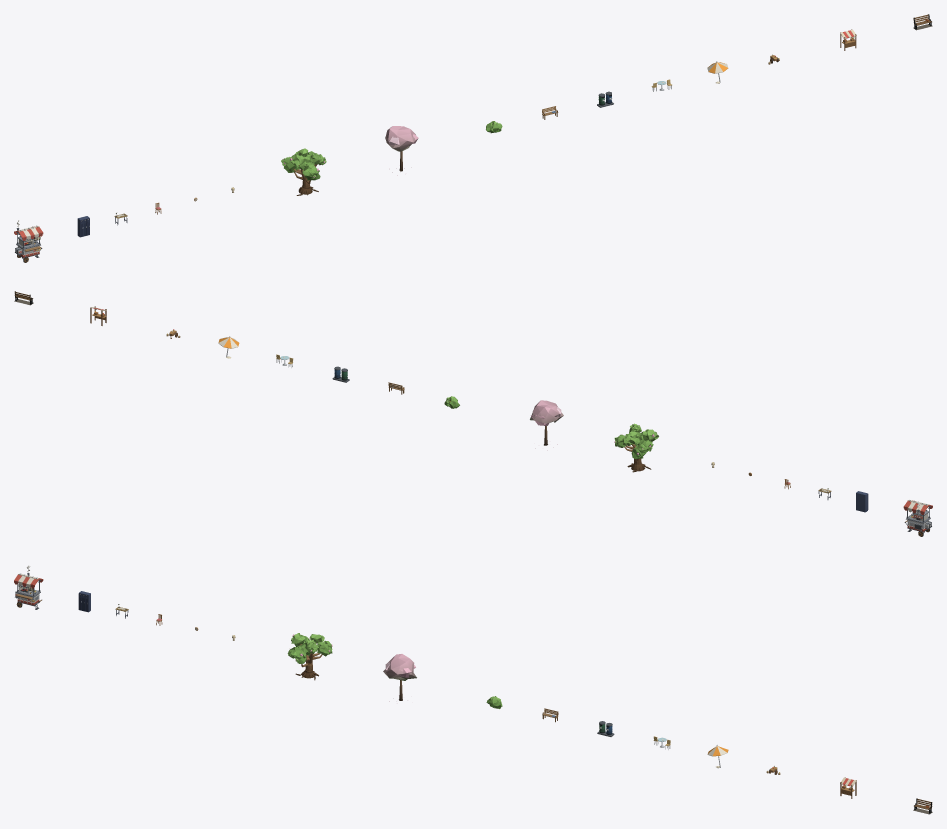
Rendered from catalog_props.glb.
3 renders of one model, top to bottom at view 1: azimuth 30°, elevation 25°; view 2: azimuth 150°, elevation 25°; view 3: azimuth 330°, elevation 25°, orthographic.
Visible parts, largest first — view 1: park_tree_01, food_cart_01, flowering_tree; view 2: park_tree_01, food_cart_01, flowering_tree; view 3: park_tree_01, food_cart_01, flowering_tree.
Boxes of the visible parts, x1,y1,x2,y2 form: park_tree_01: (281, 148, 326, 195); food_cart_01: (14, 220, 43, 262); flowering_tree: (385, 126, 418, 175); park_tree_01: (614, 423, 658, 472); food_cart_01: (903, 499, 932, 536); flowering_tree: (530, 400, 563, 450); park_tree_01: (287, 633, 332, 680); food_cart_01: (14, 565, 43, 609); flowering_tree: (383, 654, 416, 702).
Size of the model in its own units: 98.24 by 4.36 by 4.29.
